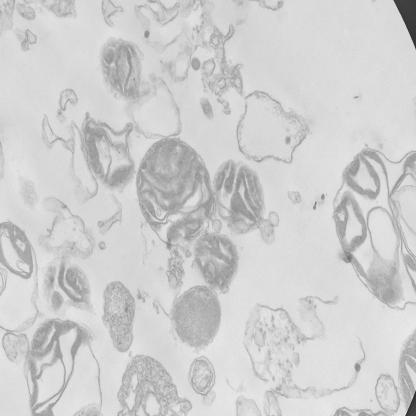mitochondria: (138, 141, 214, 240), (212, 163, 267, 237), (196, 234, 238, 289)
